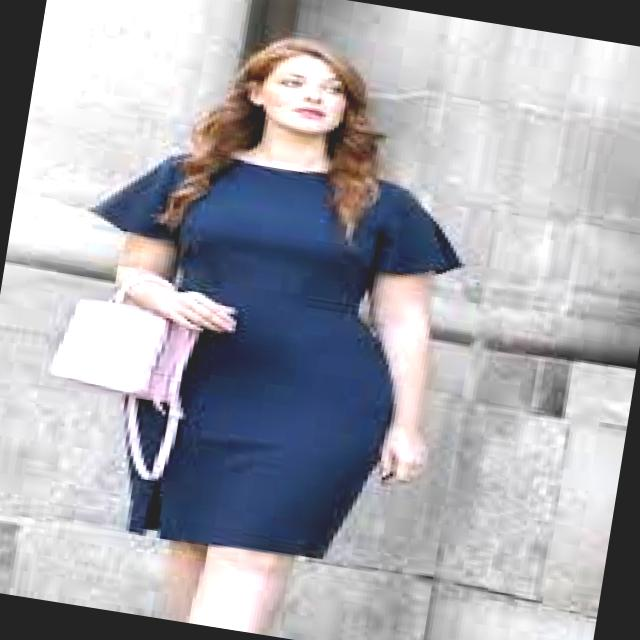dress: (88, 153, 461, 558)
